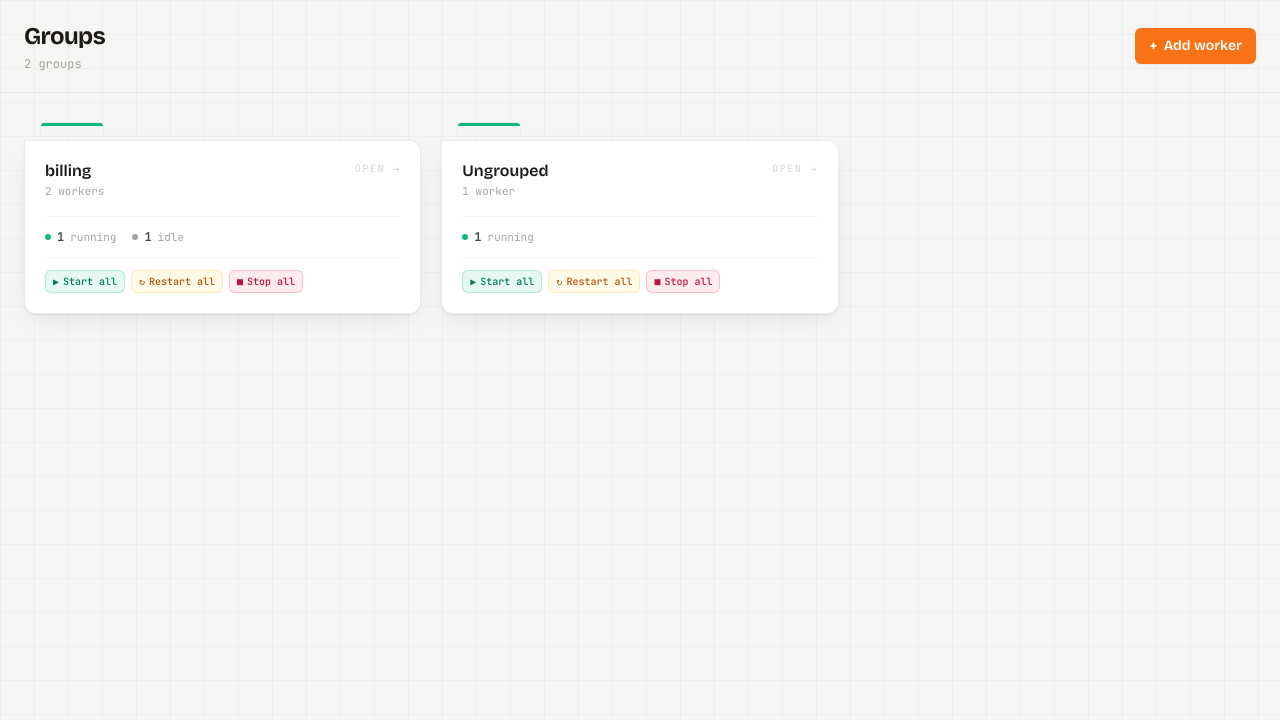
Test: GroupsView › shows a folder card per group and drills into one
The width and height of the screenshot is (1280, 720).
Check: the heading "Ungrouped" is shown, box x1=462 y1=161 x2=549 y2=181
# drill into billing
Click the heading "billing" at [68, 170], box x1=45 y1=161 x2=91 y2=180
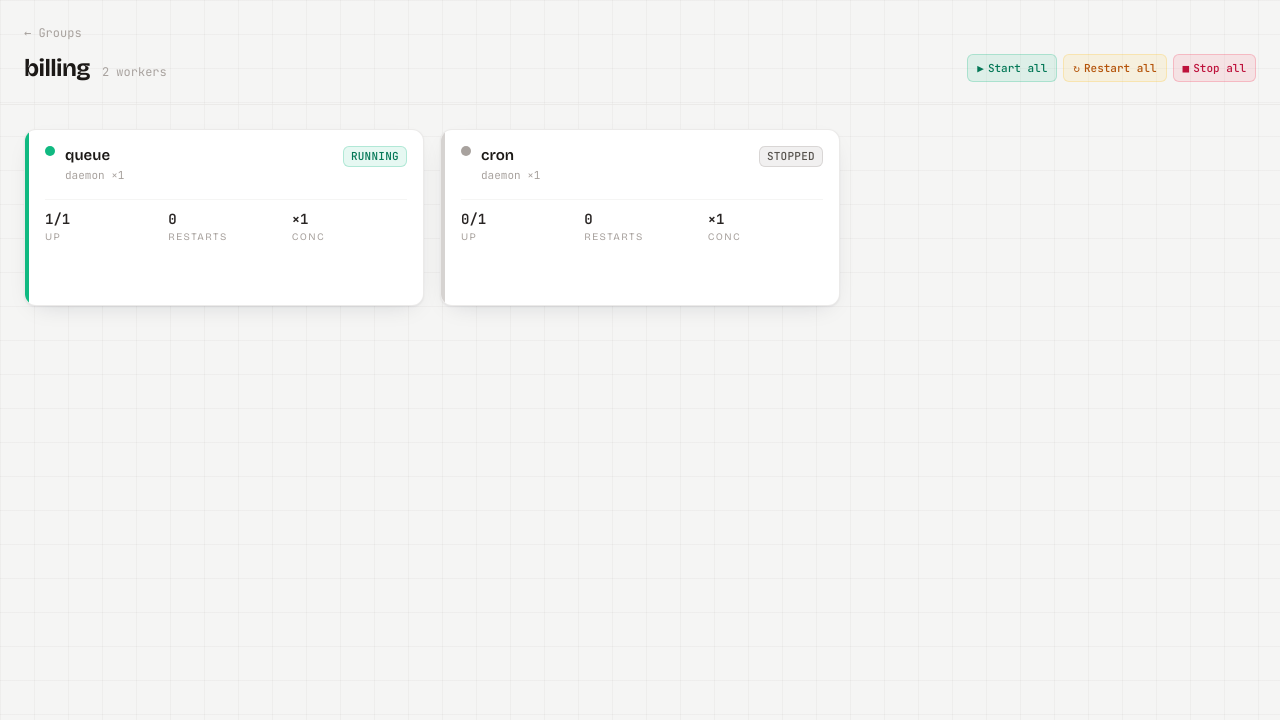
Check: the heading "queue" is shown, box x1=65 y1=146 x2=110 y2=164
Check: the heading "cron" is shown, box x1=481 y1=146 x2=514 y2=164
